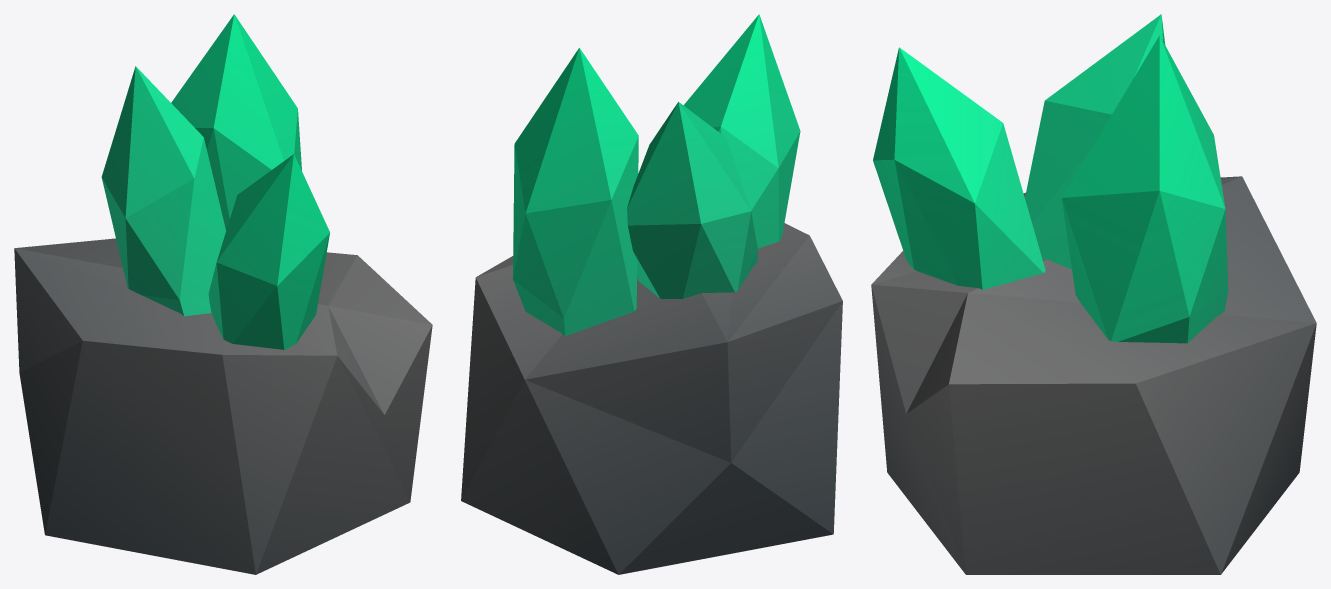
Rendered from Geminite.fbx.
3 views of the same model, side by side, from view 1: azimuth 30°, elevation 25°; view 2: azimuth 150°, elevation 25°; view 3: azimuth 270°, elevation 25° (orthographic). The views are drawn at different scales.
Visible parts, largest first — view 1: GEMINITE GEM.001; view 2: GEMINITE GEM.001; view 3: GEMINITE GEM.001.
Part boxes in pixels (x1=…): GEMINITE GEM.001: x1=14, y1=14, x2=432, y2=574; GEMINITE GEM.001: x1=461, y1=14, x2=842, y2=574; GEMINITE GEM.001: x1=871, y1=14, x2=1316, y2=574.
Size of the model in its own units: 156 by 201 by 165.
2 materials, 2 textured.
